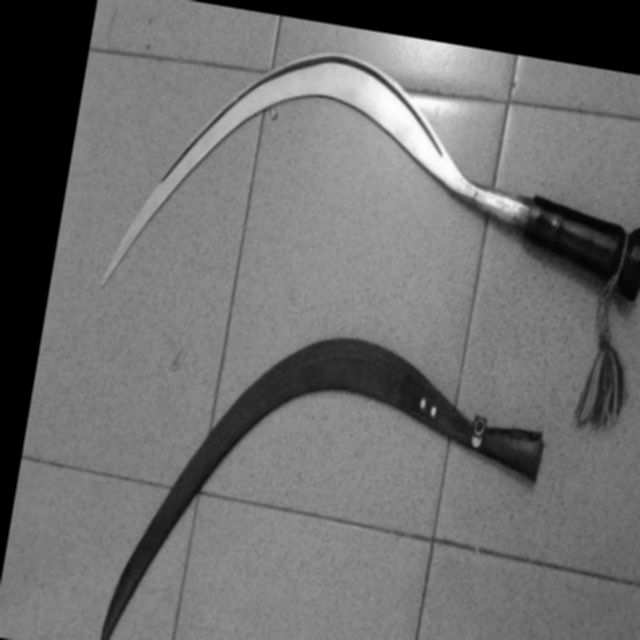Sharp-Object: (87, 1, 640, 384), (64, 292, 570, 640)
